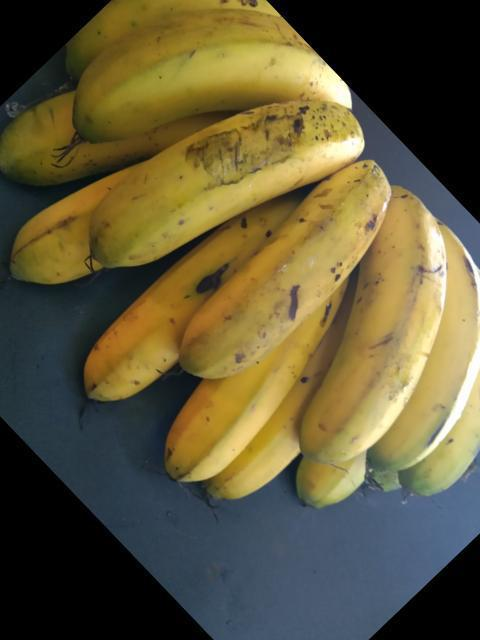ripe: (70, 92, 364, 270), (182, 147, 361, 362), (301, 193, 445, 450), (72, 22, 339, 119), (152, 336, 290, 478), (72, 286, 194, 403)
